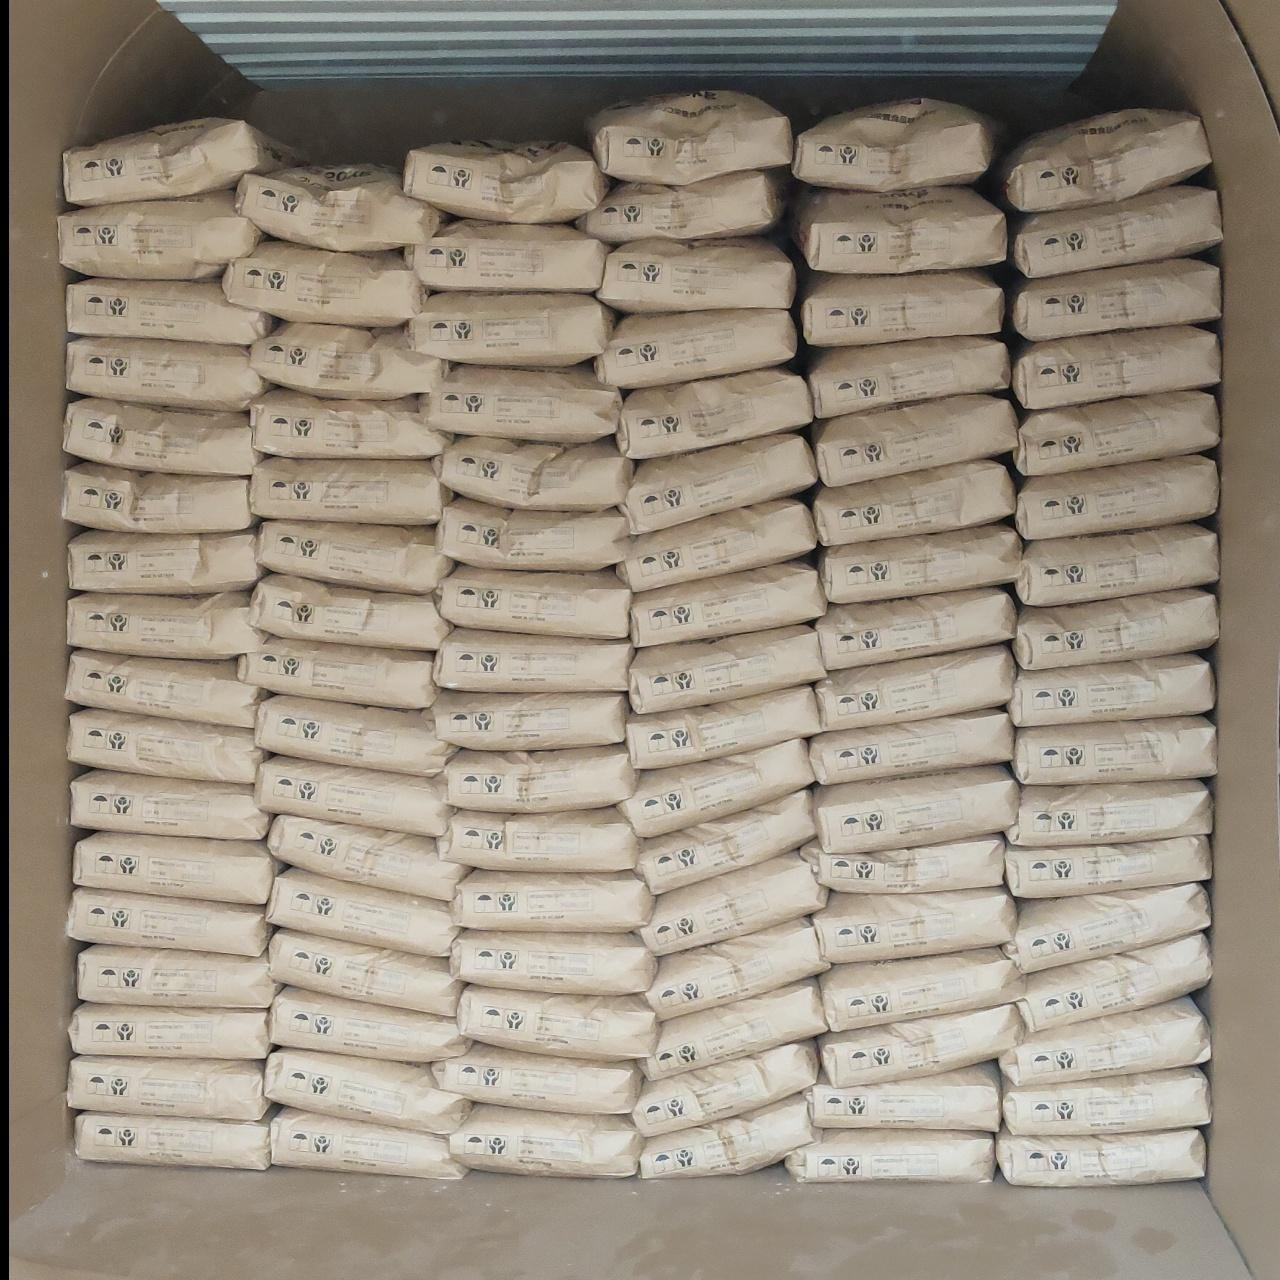sack: (996, 110, 1208, 212), (794, 98, 1006, 190), (64, 118, 284, 204), (622, 434, 814, 532), (636, 790, 814, 894), (1012, 188, 1220, 276), (1020, 934, 1210, 1030), (588, 92, 790, 182), (638, 854, 826, 950), (644, 920, 828, 1018), (622, 742, 812, 836), (1002, 998, 1206, 1084), (620, 500, 814, 590), (644, 980, 822, 1078), (792, 188, 1004, 270), (812, 396, 1014, 482), (60, 192, 262, 278), (1008, 884, 1208, 970), (236, 166, 444, 248), (266, 1050, 468, 1134), (618, 370, 810, 458), (1010, 260, 1220, 340), (634, 1042, 816, 1134), (1014, 392, 1218, 474), (224, 242, 426, 324), (1014, 326, 1220, 406), (1016, 456, 1216, 538), (814, 460, 1012, 542), (630, 626, 822, 710), (1016, 524, 1216, 604), (814, 768, 1014, 848), (406, 142, 606, 222), (270, 816, 464, 898), (816, 646, 1014, 726), (270, 870, 454, 956), (270, 930, 458, 1014), (1014, 590, 1216, 668), (632, 562, 824, 644), (820, 1006, 1020, 1084), (822, 950, 1022, 1028), (256, 696, 454, 774), (820, 524, 1022, 600), (818, 590, 1014, 668), (408, 292, 614, 366), (596, 310, 796, 386), (808, 338, 1006, 414), (66, 650, 264, 726), (628, 688, 818, 766), (256, 758, 450, 834), (580, 170, 784, 242), (422, 364, 620, 438), (800, 270, 1002, 342), (64, 400, 260, 474), (252, 324, 446, 398), (74, 832, 278, 902), (598, 238, 794, 310), (272, 988, 468, 1060), (68, 338, 268, 408), (812, 712, 1012, 782), (70, 710, 264, 782), (1010, 656, 1214, 724), (640, 1096, 816, 1174), (250, 576, 446, 646), (458, 986, 654, 1056), (814, 890, 1014, 958), (406, 222, 606, 290), (436, 438, 630, 508), (434, 1044, 638, 1110), (1004, 1068, 1206, 1134), (272, 1108, 462, 1178), (68, 888, 268, 954), (240, 638, 434, 706), (438, 568, 630, 636), (258, 522, 450, 590), (438, 498, 630, 566), (72, 772, 268, 838), (252, 390, 448, 456), (64, 464, 254, 532), (450, 1106, 640, 1174), (1014, 718, 1214, 782), (68, 280, 272, 342), (1008, 782, 1212, 844), (68, 592, 264, 656), (252, 458, 448, 522), (808, 1064, 998, 1130), (452, 930, 654, 992), (442, 746, 636, 810), (440, 808, 638, 870), (452, 870, 654, 930), (78, 946, 276, 1006), (70, 1058, 264, 1118), (70, 530, 262, 590), (1006, 838, 1210, 894), (436, 630, 630, 688), (430, 692, 626, 748), (998, 1130, 1204, 1182), (786, 1130, 992, 1182), (804, 838, 1002, 892), (72, 1004, 268, 1058), (76, 1112, 268, 1166)
